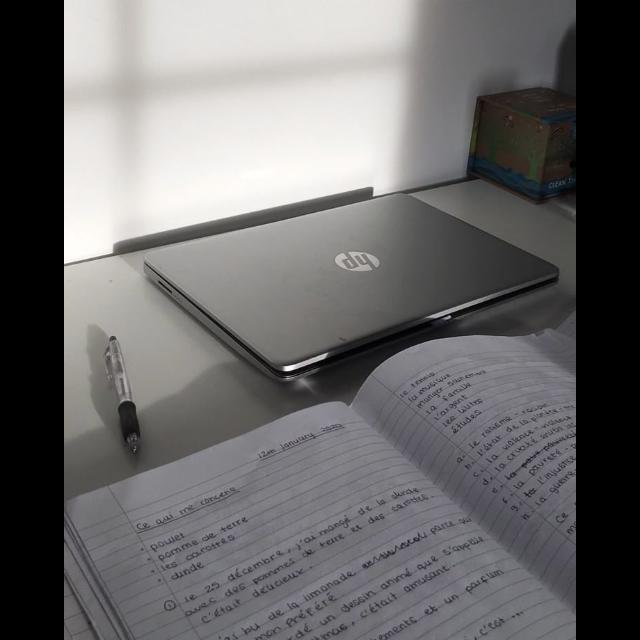laptop: (145, 194, 558, 379)
